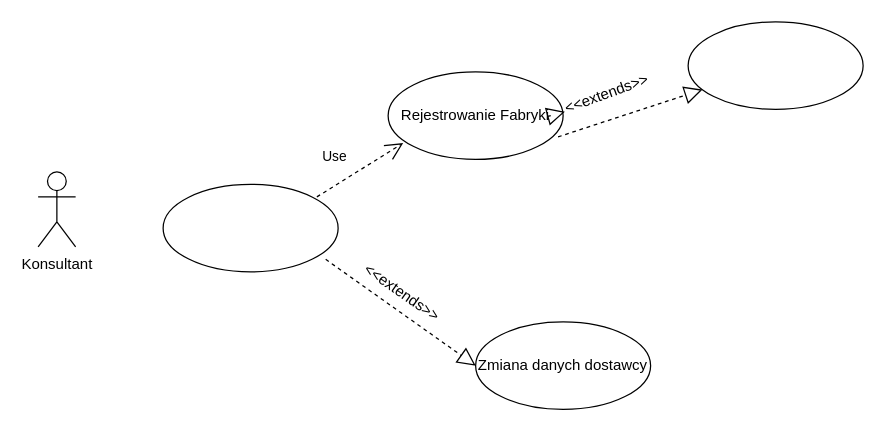
Image size: 885x431. Some labels were removed from this diagram. The centre of each missing label's shape, as x and y in pixels:
"Rejestorwanie dostawcy" goes at point (250, 227).
"Zmiana danych fabryki" goes at point (775, 65).
